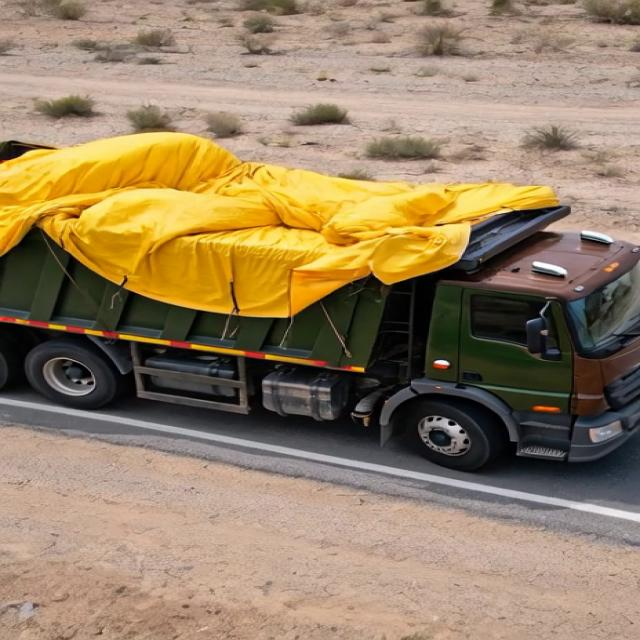trailer: (0, 142, 562, 281)
truck: (1, 125, 638, 439)
